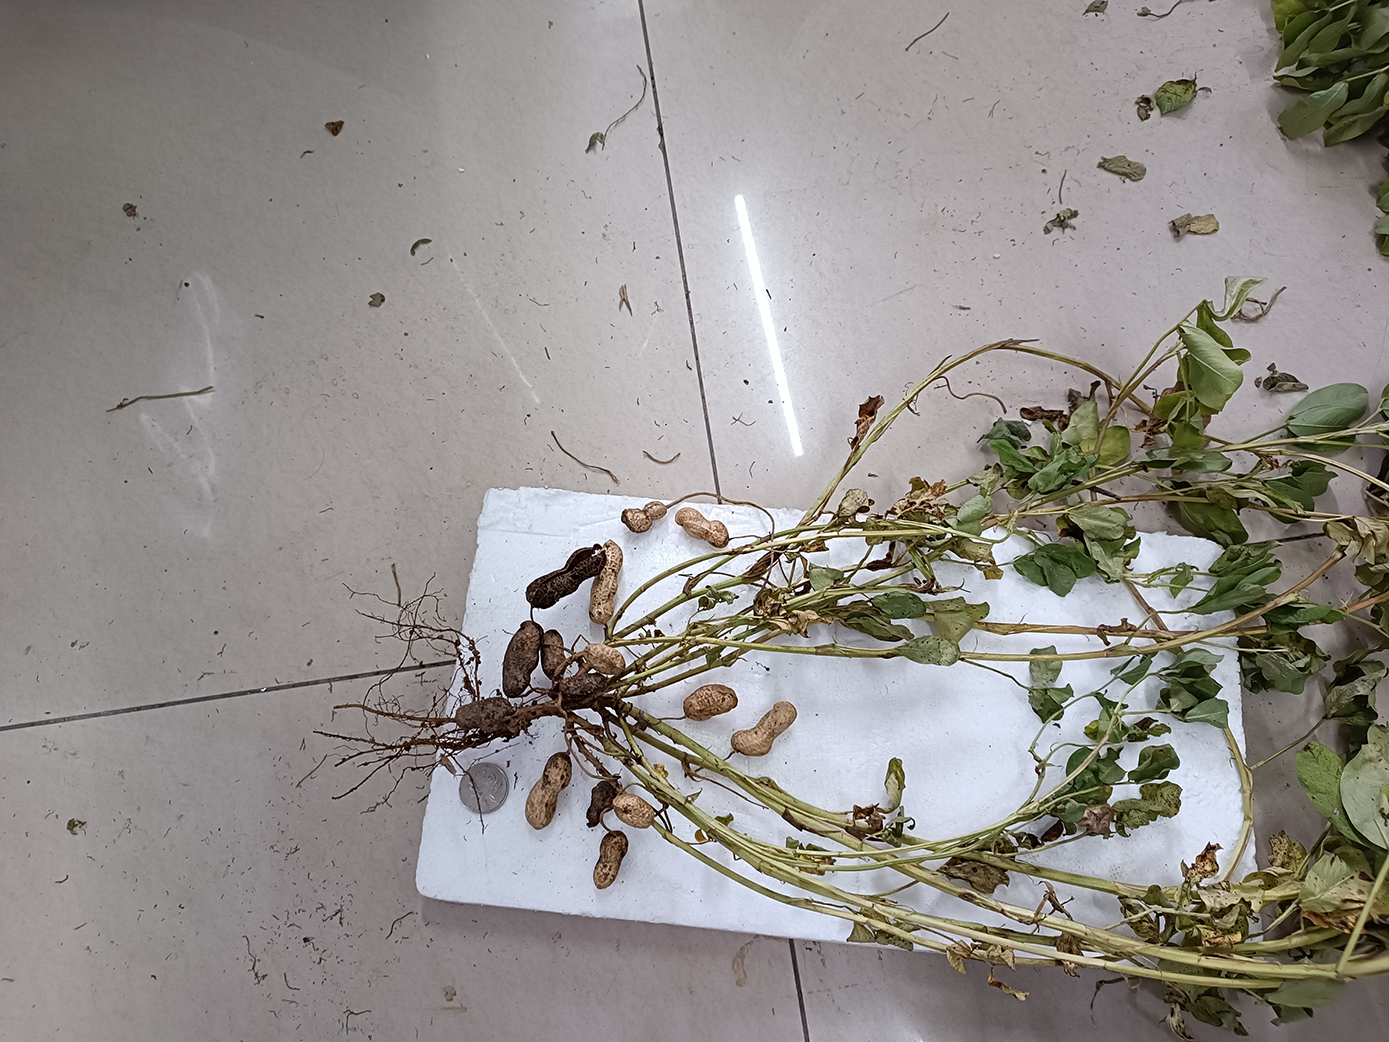h: (729, 701, 796, 757), (525, 753, 572, 827), (589, 539, 623, 626), (674, 509, 729, 548), (683, 684, 739, 722), (594, 831, 628, 889), (620, 501, 665, 533), (612, 794, 653, 827), (582, 642, 625, 675)
l: (525, 545, 606, 607), (501, 621, 537, 695), (455, 698, 514, 728), (539, 628, 568, 676), (584, 780, 612, 831), (552, 675, 606, 699)
